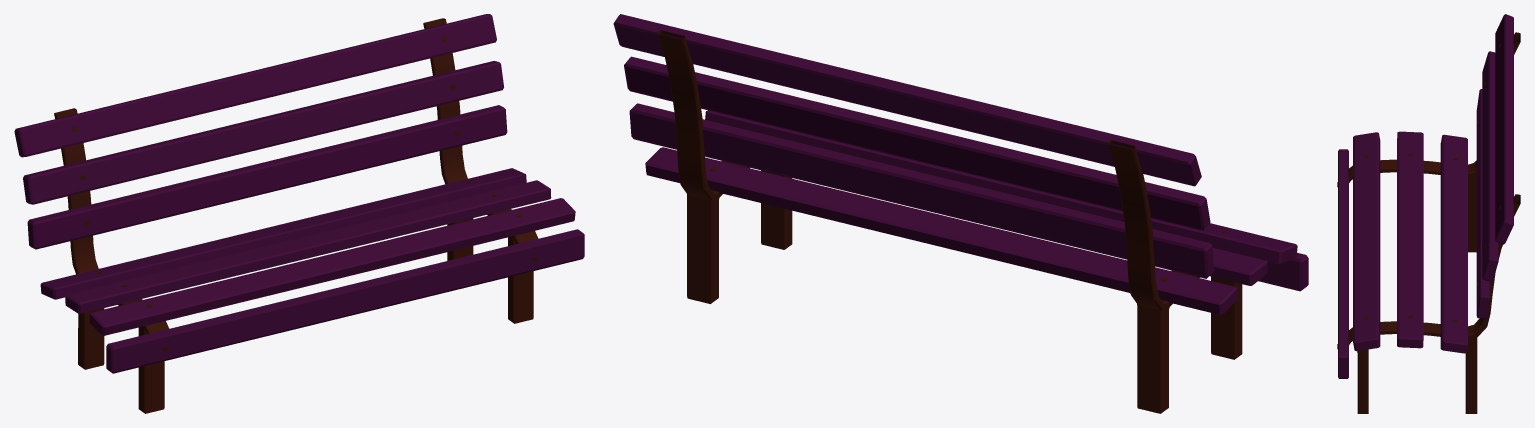
The picture shows the model from 3 angles, left to right: view 1: azimuth 30°, elevation 25°; view 2: azimuth 150°, elevation 25°; view 3: azimuth 270°, elevation 25°; orthographic projection. The views are drawn at different scales.
Visible parts, largest first — view 1: Box12, Box11, Box09, Box10, Box05, Box03, Box01, Line01, Line02; view 2: Box12, Box11, Box10, Box01, Line01, Line02, Box05, Box03, Box09; view 3: Box01, Box05, Box03, Box10, Box11, Line02, Box09, Box12, Line01.
Boxes of the visible parts, x1=… form: Box12: x1=27, y1=105, x2=507, y2=249; Box11: x1=23, y1=61, x2=503, y2=204; Box09: x1=106, y1=229, x2=584, y2=373; Box10: x1=14, y1=14, x2=496, y2=157; Box05: x1=89, y1=198, x2=575, y2=335; Box03: x1=65, y1=180, x2=551, y2=313; Box01: x1=40, y1=168, x2=526, y2=299; Line01: x1=54, y1=108, x2=169, y2=413; Line02: x1=423, y1=18, x2=538, y2=323; Box12: x1=629, y1=103, x2=1214, y2=278; Box11: x1=624, y1=56, x2=1210, y2=230; Box10: x1=613, y1=14, x2=1201, y2=186; Box01: x1=645, y1=147, x2=1237, y2=314; Line01: x1=1107, y1=140, x2=1242, y2=413; Line02: x1=658, y1=30, x2=792, y2=303; Box05: x1=705, y1=110, x2=1297, y2=264; Box03: x1=1210, y1=247, x2=1267, y2=285; Box09: x1=1258, y1=252, x2=1308, y2=291; Box01: x1=1440, y1=134, x2=1467, y2=353; Box05: x1=1353, y1=132, x2=1380, y2=351; Box03: x1=1397, y1=131, x2=1423, y2=348; Box10: x1=1495, y1=14, x2=1513, y2=244; Box11: x1=1482, y1=51, x2=1498, y2=281; Line02: x1=1337, y1=194, x2=1520, y2=413; Box09: x1=1338, y1=149, x2=1348, y2=378; Box12: x1=1476, y1=89, x2=1490, y2=318; Line01: x1=1337, y1=32, x2=1520, y2=252.
Bounding box in the file's own units: 3.18 × 1.51 × 1.19.
